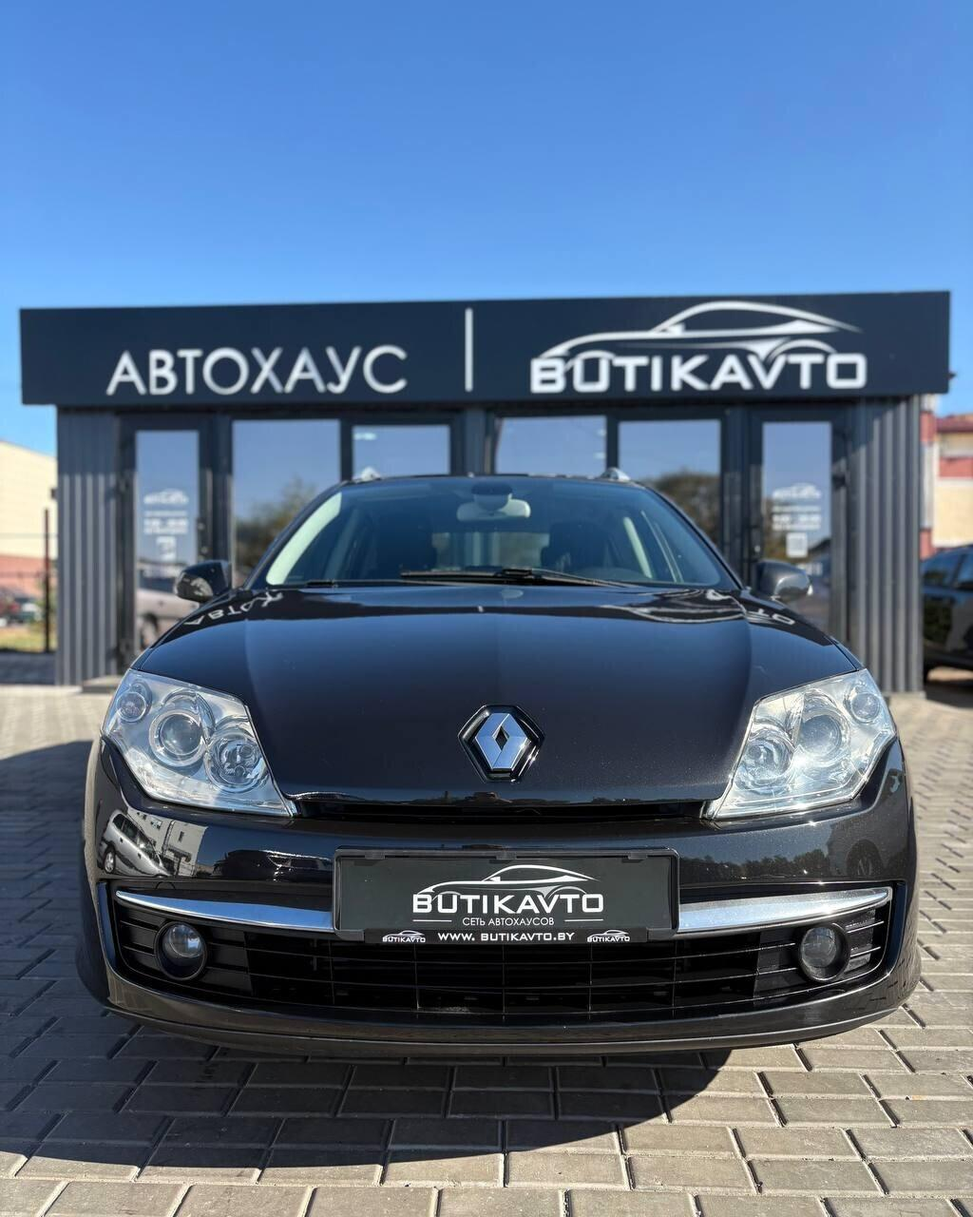Laguna_2007-2011: (83, 473, 916, 1052)
